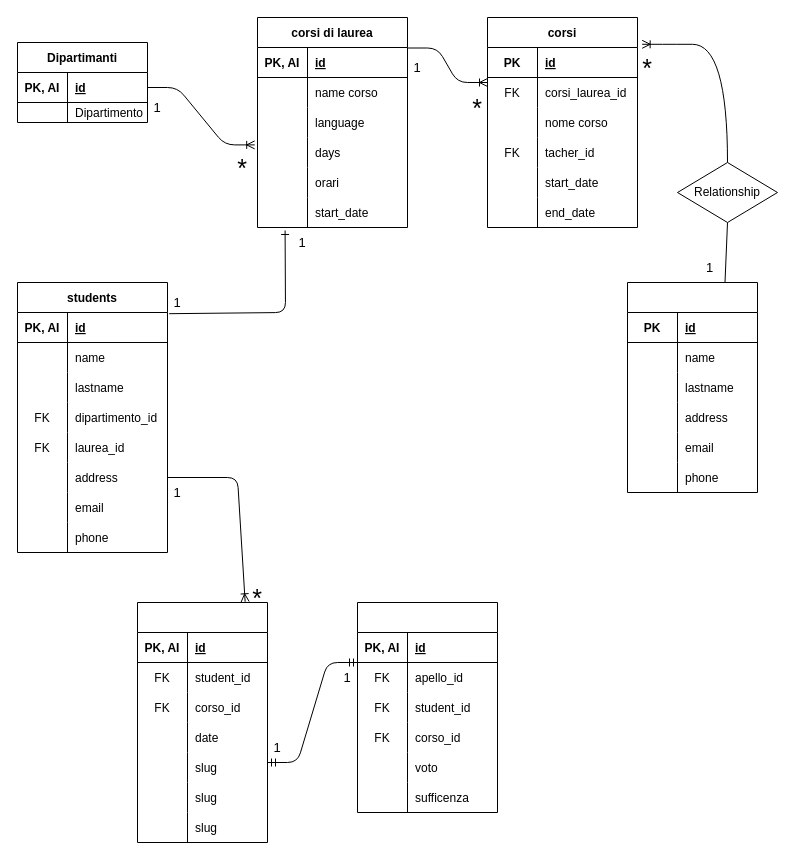
The diagram is 795 pixels wide and 860 high, and some of its shapes have lost their labels. The shapes that lost their labels are listed below. From the top down, each one's box as (x1, y1, x2, y2) in pixels, then its label:
(626, 282, 758, 492): teachers
(136, 602, 268, 842): Apelli esame
(356, 602, 498, 812): Voti apelli esami
